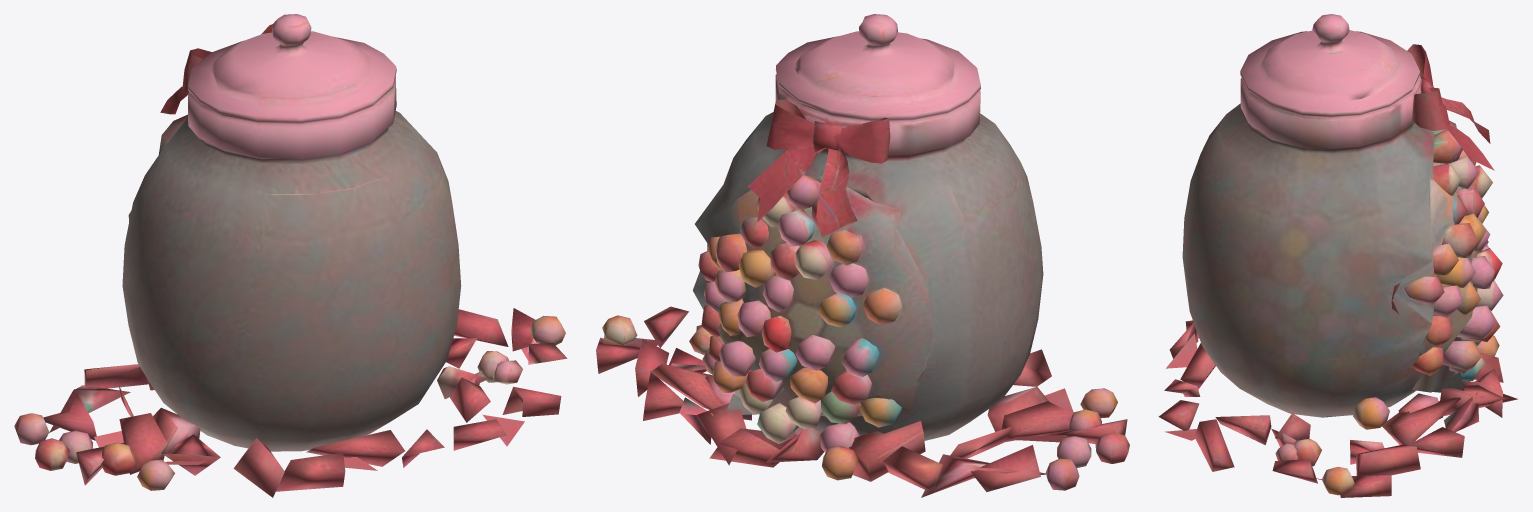
Rendered from office-gumball-jar.glb.
The picture shows the model from 3 angles, left to right: view 1: azimuth 30°, elevation 25°; view 2: azimuth 150°, elevation 25°; view 3: azimuth 270°, elevation 25°; orthographic projection. The views are drawn at different scales.
Parts seen in each view (by area): view 1: gumball-jar; view 2: gumball-jar; view 3: gumball-jar.
Part boxes in pixels (x1,y1,x2,y2): gumball-jar: (14, 14, 567, 497); gumball-jar: (596, 14, 1129, 497); gumball-jar: (1158, 14, 1517, 497).
Bounding box in the file's own units: 1.03 × 0.75 × 0.6604.
1 material, 1 textured.
